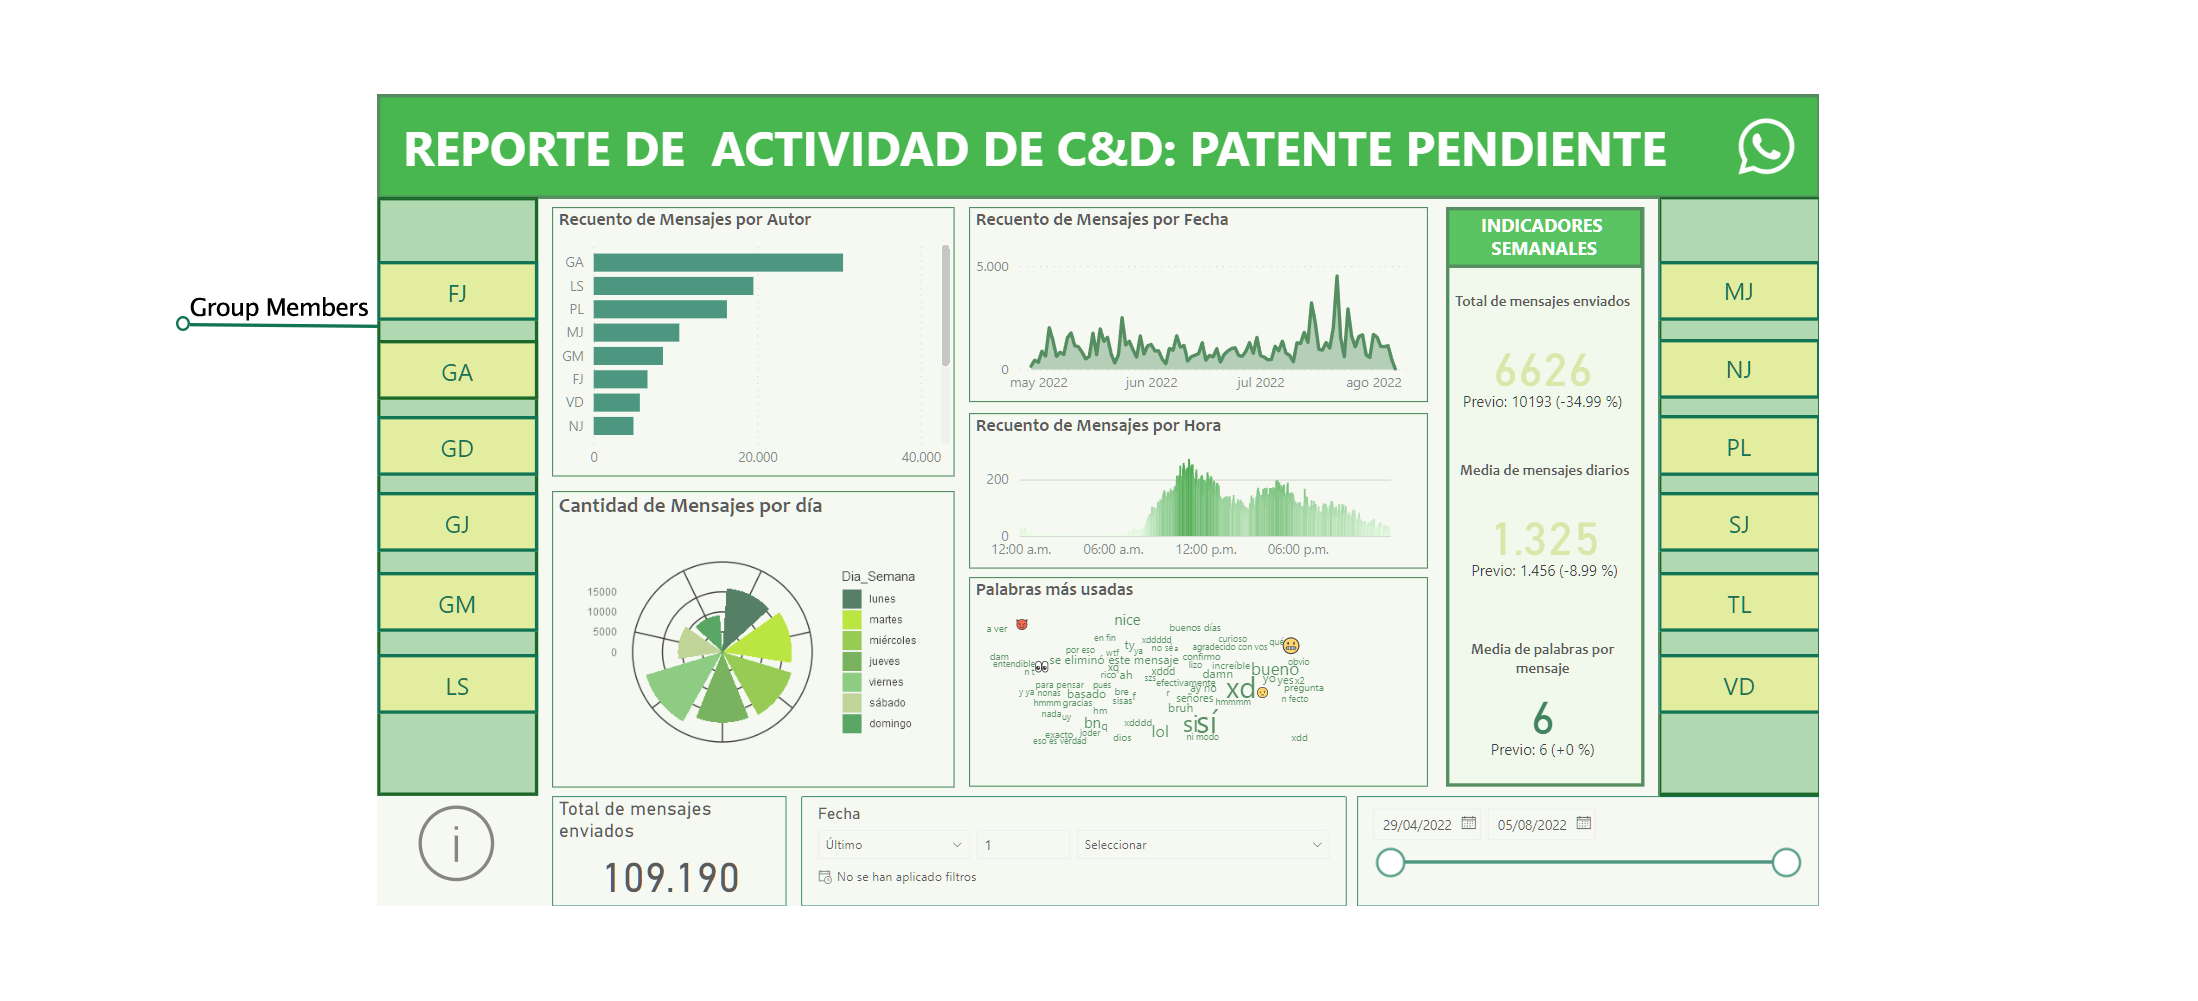

This screenshot's page, from the dashboard's own definition file:
{"tool":"powerbi","page":{"name":"Main","canvas":[1280,720],"ordinal":0},"visuals":[{"type":"shape","box":[0,112.6,199.5,523.2],"z":0},{"type":"shape","box":[0,0,1280,118.7],"z":1000},{"type":"image","box":[1167.2,5.8,112.8,106],"z":2000},{"type":"textbox","box":[0,24.3,1167.2,69.1],"z":3000},{"type":"shape","box":[1080,112.6,199.5,523.2],"z":4000},{"type":"slicer","fields":{"Values":["whatsapp_chat mychats.Fecha"]},"box":[419.4,635.8,440.7,85.1],"z":5000},{"type":"columnChart","title":"Recuento de Mensajes por Hora","fields":{"Category":["whatsapp_chat mychats.Hora"],"Y":["CountNonNull(whatsapp_chat mychats.Indice)"]},"box":[583.4,118.8,381.3,275.8],"z":6000},{"type":"donutChart","title":"Proporción de Sentimiento por Mensajes","fields":{"Category":["whatsapp_chat mychats.Sentimiento"],"Y":["CountNonNull(whatsapp_chat mychats.Indice)"]},"box":[199.5,394.6,383.9,241.2],"z":7000},{"type":"barChart","title":"Recuento de Mensajes por Autor","fields":{"Category":["whatsapp_chat mychats.Autor"],"Y":["CountNonNull(whatsapp_chat mychats.Indice)"]},"box":[200.4,118.8,383.1,275.8],"z":8000},{"type":"actionButton","box":[0,518.7,199.5,53.2],"z":9000},{"type":"actionButton","box":[0,445.1,199.5,53.2],"z":10000},{"type":"actionButton","box":[0,374.2,199.5,53.2],"z":11000},{"type":"actionButton","box":[0,306.8,199.5,53.2],"z":12000},{"type":"actionButton","box":[0,239.4,199.5,53.2],"z":13000},{"type":"actionButton","box":[0,169.4,199.5,53.2],"z":14000},{"type":"actionButton","box":[1080.4,518.7,199.5,53.2],"z":15000},{"type":"actionButton","box":[1080.4,445.1,199.5,53.2],"z":16000},{"type":"actionButton","box":[1080.4,374.2,199.5,53.2],"z":17000},{"type":"actionButton","box":[1080.4,306.8,199.5,53.2],"z":18000},{"type":"actionButton","box":[1080.4,239.4,199.5,53.2],"z":19000},{"type":"actionButton","box":[1080.4,169.4,199.5,53.2],"z":20000},{"type":"WordCloud1447959067750","title":"Palabras más usadas","fields":{"Category":["whatsapp_chat mychats.Mensaje"],"Values":["CountNonNull(whatsapp_chat mychats.Indice)"]},"box":[583.4,394.6,381.3,241.2],"z":21000},{"type":"actionButton","box":[56.7,635.8,86,84.2],"z":22000},{"type":"card","title":"Total de mensajes enviados","fields":{"Values":["CountNonNull(whatsapp_chat mychats.Indice)"]},"box":[199.5,635.8,220.8,84.2],"z":23000},{"type":"slicer","fields":{"Values":["whatsapp_chat mychats.Fecha"]},"box":[860.4,635.7,418.7,84.3],"z":24000},{"type":"card","title":"Media de Mensajes diarios","fields":{"Values":["Tabla_Medidas.Media_Mensajes"]},"box":[964.7,175.6,115.3,94],"z":24001},{"type":"card","title":"Media de Palabras por Mensaje","fields":{"Values":["Tabla_Medidas.Media_Palabras_Por_Mensaje"]},"box":[964.7,333.4,116.2,94],"z":24002},{"type":"card","title":"Total de Palabras enviadas","fields":{"Values":["Sum(whatsapp_chat mychats.Cantidad_Palabras)"]},"box":[964.7,477.9,115.3,94],"z":24003}]}

Visuals, with their boxes on the page's 1280x720 design canvas (x1, y1, x2, y2). These are canvas units, not pixel positions in the 2198x1001 screenshot, which may show the page scaled, cropped or inside an application window:
shape: {"left": 0, "top": 113, "right": 200, "bottom": 636}
shape: {"left": 0, "top": 0, "right": 1280, "bottom": 119}
image: {"left": 1167, "top": 6, "right": 1280, "bottom": 112}
textbox: {"left": 0, "top": 24, "right": 1167, "bottom": 93}
shape: {"left": 1080, "top": 113, "right": 1280, "bottom": 636}
slicer - whatsapp_chat mychats.Fecha: {"left": 419, "top": 636, "right": 860, "bottom": 721}
"Recuento de Mensajes por Hora" columnChart: {"left": 583, "top": 119, "right": 965, "bottom": 395}
"Proporción de Sentimiento por Mensajes" donutChart: {"left": 200, "top": 395, "right": 583, "bottom": 636}
"Recuento de Mensajes por Autor" barChart: {"left": 200, "top": 119, "right": 584, "bottom": 395}
actionButton: {"left": 0, "top": 519, "right": 200, "bottom": 572}
actionButton: {"left": 0, "top": 445, "right": 200, "bottom": 498}
actionButton: {"left": 0, "top": 374, "right": 200, "bottom": 427}
actionButton: {"left": 0, "top": 307, "right": 200, "bottom": 360}
actionButton: {"left": 0, "top": 239, "right": 200, "bottom": 293}
actionButton: {"left": 0, "top": 169, "right": 200, "bottom": 223}
actionButton: {"left": 1080, "top": 519, "right": 1280, "bottom": 572}
actionButton: {"left": 1080, "top": 445, "right": 1280, "bottom": 498}
actionButton: {"left": 1080, "top": 374, "right": 1280, "bottom": 427}
actionButton: {"left": 1080, "top": 307, "right": 1280, "bottom": 360}
actionButton: {"left": 1080, "top": 239, "right": 1280, "bottom": 293}
actionButton: {"left": 1080, "top": 169, "right": 1280, "bottom": 223}
"Palabras más usadas" WordCloud1447959067750: {"left": 583, "top": 395, "right": 965, "bottom": 636}
actionButton: {"left": 57, "top": 636, "right": 143, "bottom": 720}
"Total de mensajes enviados" card: {"left": 200, "top": 636, "right": 420, "bottom": 720}
slicer - whatsapp_chat mychats.Fecha: {"left": 860, "top": 636, "right": 1279, "bottom": 720}
"Media de Mensajes diarios" card: {"left": 965, "top": 176, "right": 1080, "bottom": 270}
"Media de Palabras por Mensaje" card: {"left": 965, "top": 333, "right": 1081, "bottom": 427}
"Total de Palabras enviadas" card: {"left": 965, "top": 478, "right": 1080, "bottom": 572}
